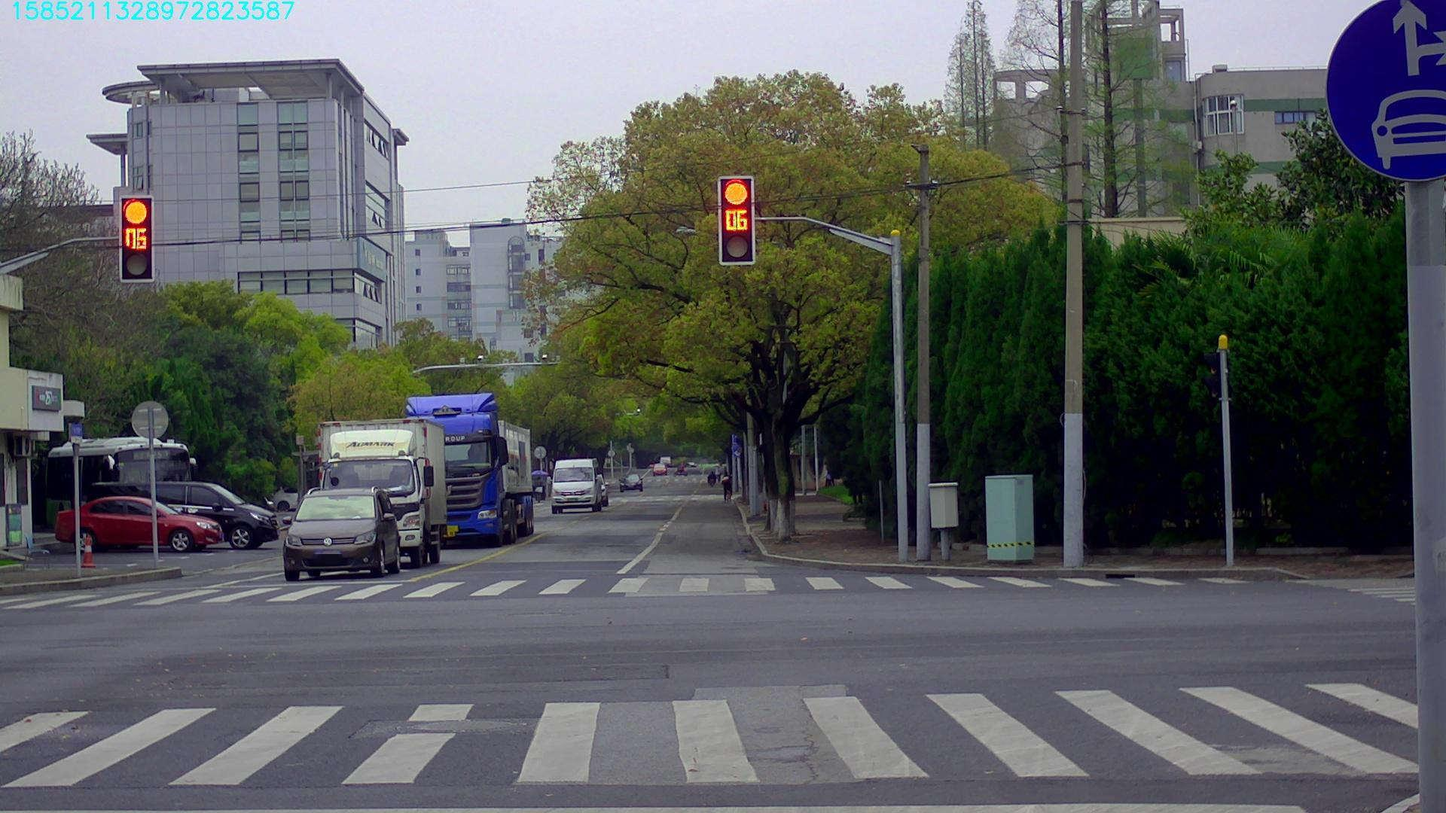red: (719, 177, 753, 263), (120, 199, 151, 279)
